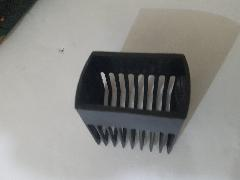plastic: (75, 50, 191, 154)
